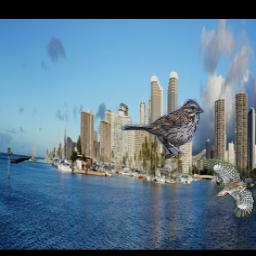Sparrow: (120, 97, 204, 159)
Woodpecker: (204, 160, 256, 218)
